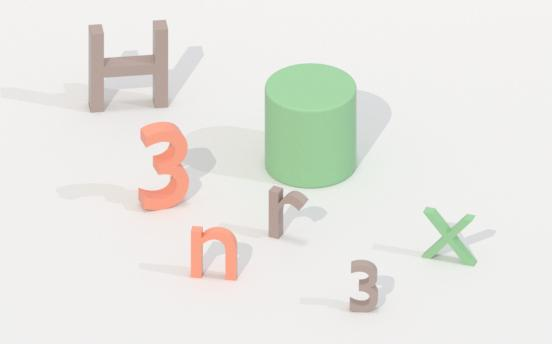3: (131, 122, 194, 214), (343, 256, 387, 314)
H-hoa: (87, 19, 174, 117)
R: (264, 185, 312, 239)
n: (186, 224, 248, 283)
tru: (260, 61, 362, 190)
x: (419, 204, 481, 268)
